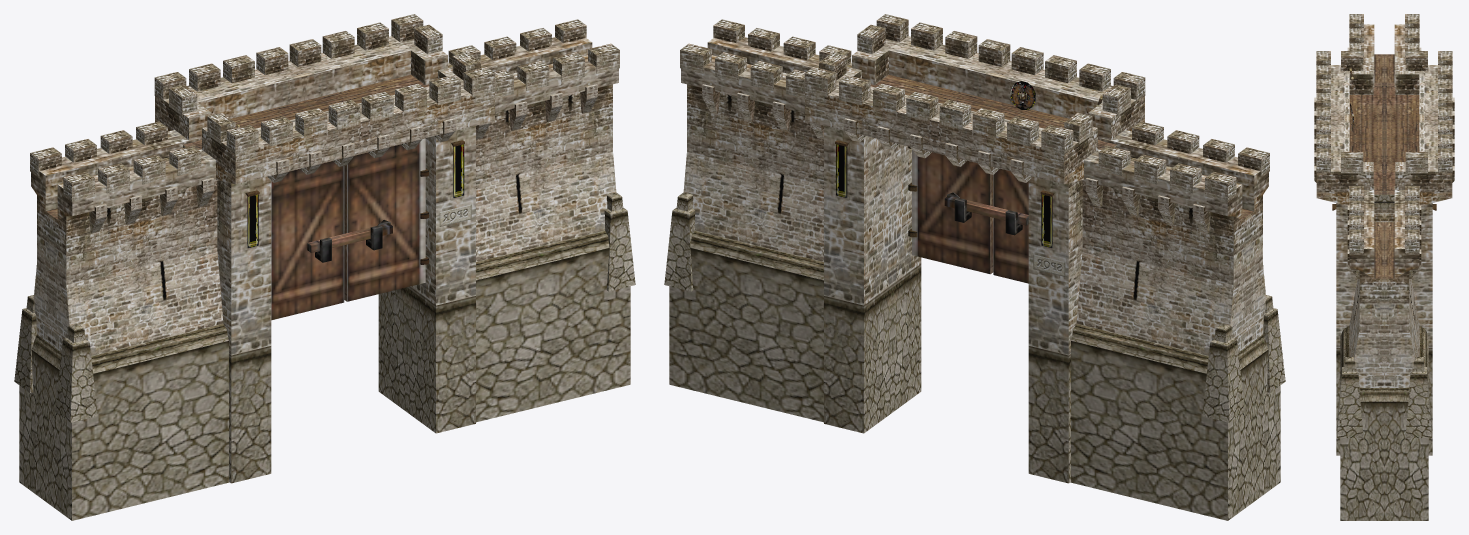
The model's file is rome_gate.glb.
3 renders of one model, left to right at view 1: azimuth 30°, elevation 25°; view 2: azimuth 150°, elevation 25°; view 3: azimuth 270°, elevation 25°, orthographic. The views are drawn at different scales.
Parts seen in each view (by area): view 1: rome_gate_part0; view 2: rome_gate_part0; view 3: rome_gate_part0.
Boxes of the visible parts, bbox=[...] form: rome_gate_part0: bbox=[14, 14, 635, 520]; rome_gate_part0: bbox=[664, 14, 1285, 520]; rome_gate_part0: bbox=[1314, 14, 1454, 520].
Size of the model in its own units: 3.8 by 2.3 by 0.9708.
Materials: 1 (1 with a texture image).
